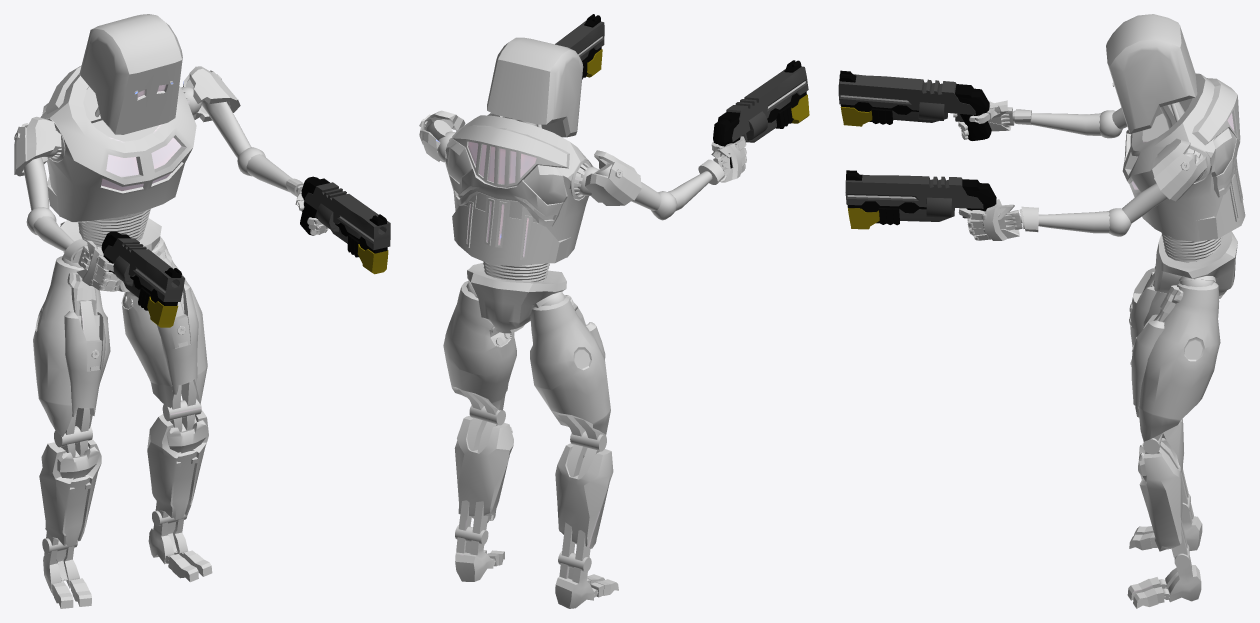
File: ClonePose_MainCharacter.fbx
3 renders of one model, left to right at view 1: azimuth 30°, elevation 25°; view 2: azimuth 150°, elevation 25°; view 3: azimuth 270°, elevation 25°, orthographic. The views are drawn at different scales.
Parts seen in each view (by area): view 1: OnePOse_000000.001; view 2: OnePOse_000000.001; view 3: OnePOse_000000.001.
Boxes of the visible parts, x1,y1,x2,y2 form: OnePOse_000000.001: (14,14,390,608); OnePOse_000000.001: (419,14,809,608); OnePOse_000000.001: (838,14,1245,608).
Size of the model in its own units: 220 by 481 by 323.
